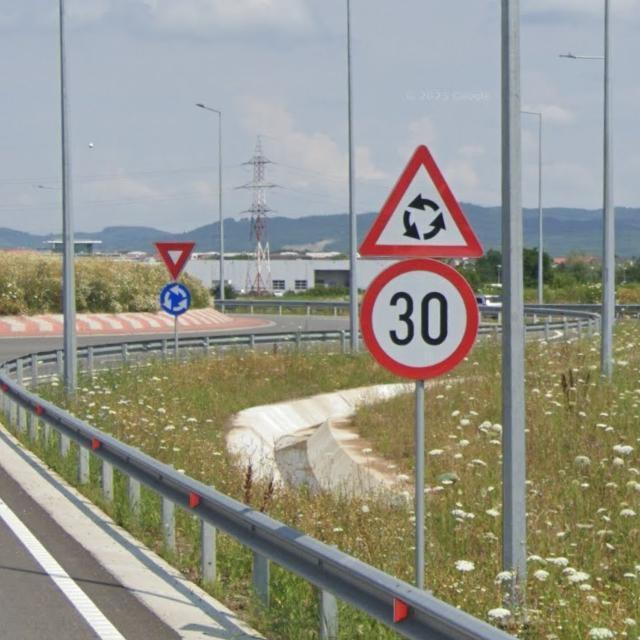forb_speed_over_30: (360, 260, 479, 380)
prio_give_way: (156, 242, 196, 279)
